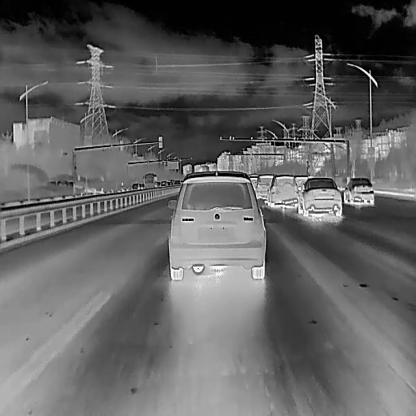bus: (142, 172, 157, 188)
car: (166, 169, 266, 279), (297, 176, 342, 216), (266, 173, 298, 206), (342, 176, 374, 205), (254, 172, 274, 198), (132, 182, 139, 190), (160, 179, 167, 187), (173, 179, 181, 186), (166, 180, 172, 186), (156, 181, 160, 187), (139, 183, 142, 188), (142, 182, 144, 189)
